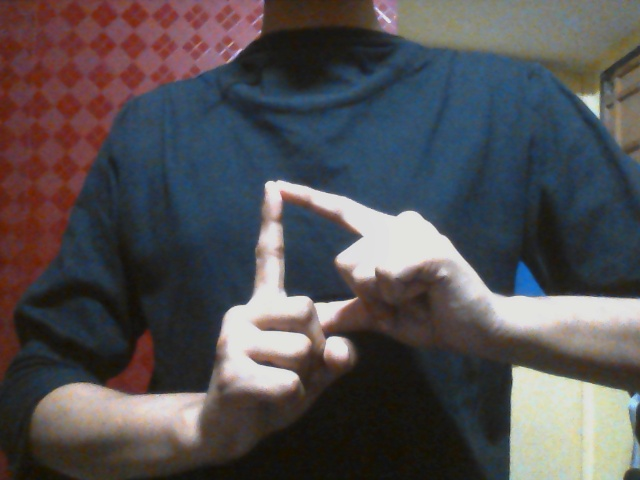D: (206, 180, 478, 459)
